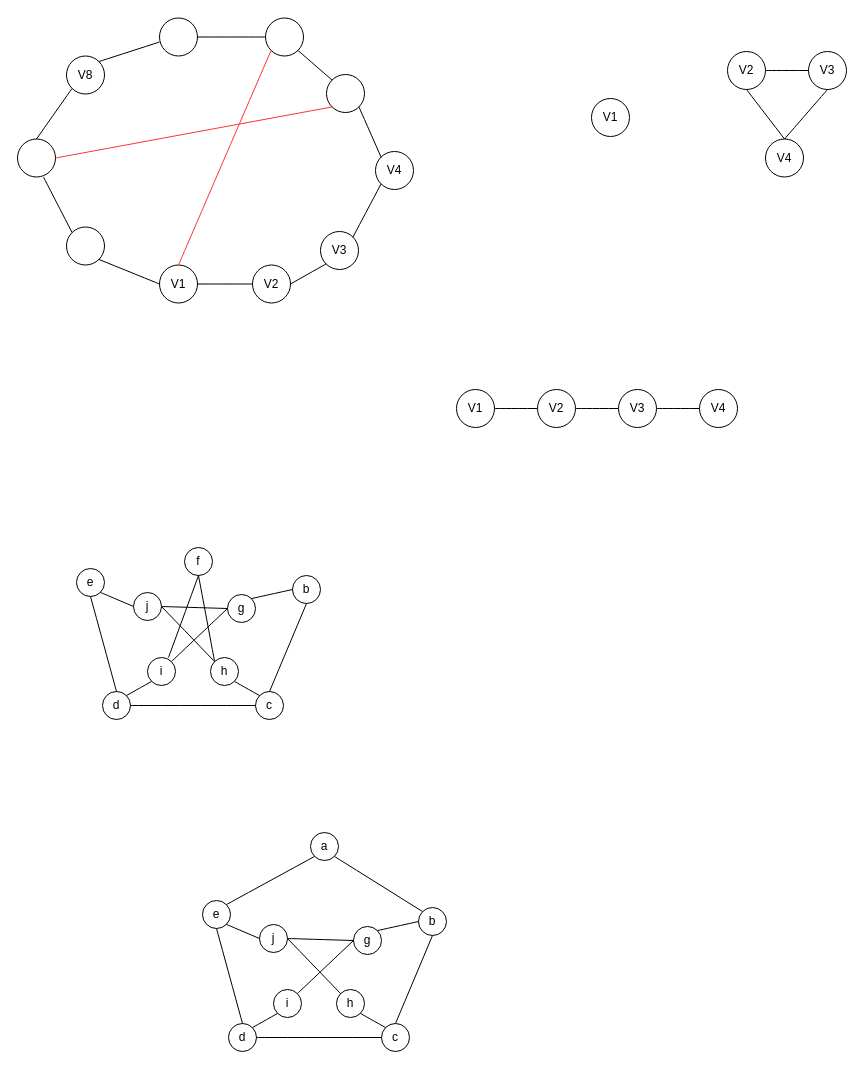
Image size: 864x1069. Some labels were removed from this diagram. Each missing label, with the box of its shape:
V10: (66, 226, 104, 265)
V5: (326, 74, 364, 112)
V6: (264, 17, 304, 56)
V7: (158, 17, 198, 56)
V9: (16, 138, 56, 177)
